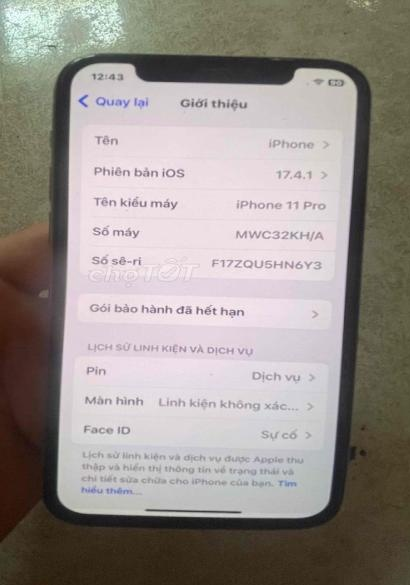scratch: (257, 52, 308, 66), (69, 46, 105, 65)
